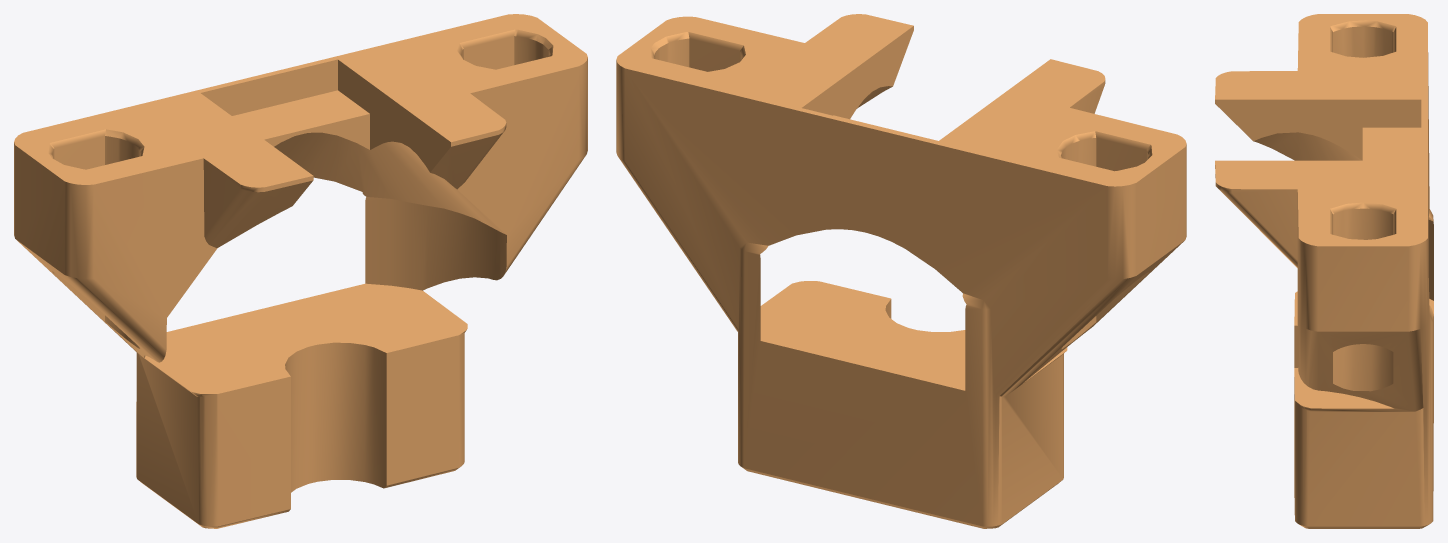
The model's file is mech-servo-mount.glb.
3 views of the same model, side by side, from view 1: azimuth 30°, elevation 25°; view 2: azimuth 150°, elevation 25°; view 3: azimuth 270°, elevation 25° (orthographic). The views are drawn at different scales.
Parts seen in each view (by area): view 1: mech-servo-mount; view 2: mech-servo-mount; view 3: mech-servo-mount.
Boxes of the visible parts, box(x1,y1,x2,y2) form: mech-servo-mount: box(14, 14, 587, 528); mech-servo-mount: box(616, 14, 1186, 528); mech-servo-mount: box(1215, 14, 1433, 528).
Size of the model in its own units: 0.0478 by 0.0328 by 0.019.
